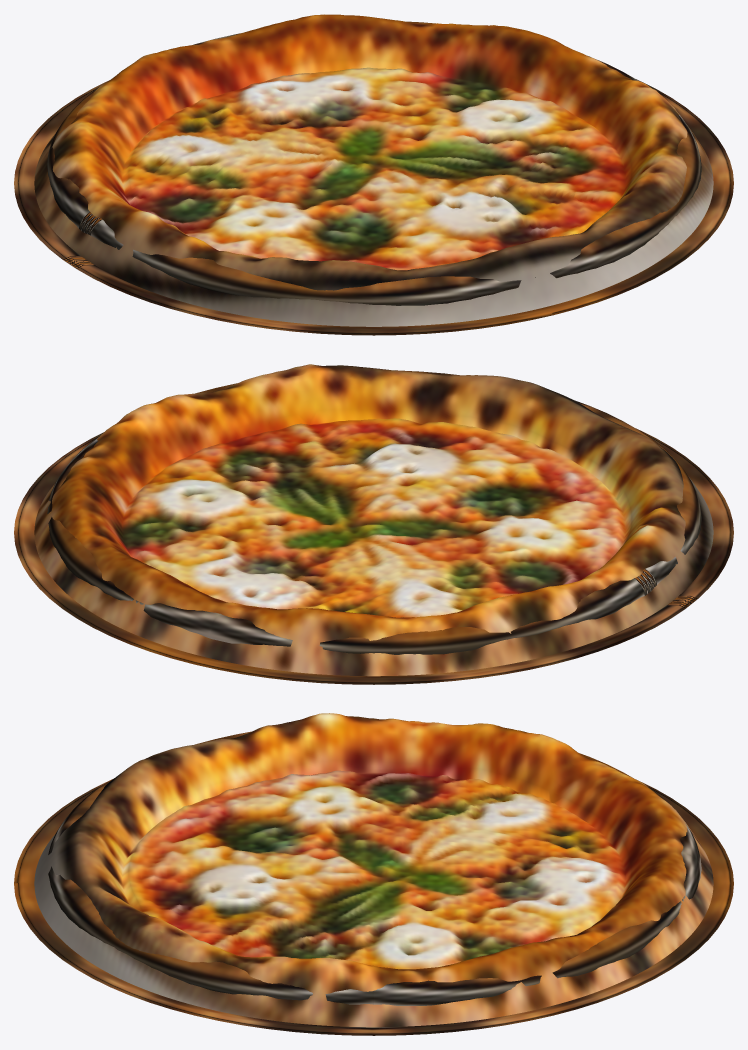
File: margherita-pizza.glb
The picture shows the model from 3 angles, top to bottom: view 1: azimuth 30°, elevation 25°; view 2: azimuth 150°, elevation 25°; view 3: azimuth 270°, elevation 25°; orthographic projection.
Visible parts, largest first — view 1: PhotoSculptedNeapolitanPie, BlisteredCornicionePerimeter, DarkArtisanPizzaPlatter; view 2: PhotoSculptedNeapolitanPie, BlisteredCornicionePerimeter, DarkArtisanPizzaPlatter; view 3: PhotoSculptedNeapolitanPie, BlisteredCornicionePerimeter, DarkArtisanPizzaPlatter.
Part boxes in pixels (<box>): PhotoSculptedNeapolitanPie: <box>34,14,713,326</box>; BlisteredCornicionePerimeter: <box>47,21,701,305</box>; DarkArtisanPizzaPlatter: <box>14,79,733,335</box>; PhotoSculptedNeapolitanPie: <box>34,364,713,676</box>; BlisteredCornicionePerimeter: <box>47,370,701,654</box>; DarkArtisanPizzaPlatter: <box>14,428,733,684</box>; PhotoSculptedNeapolitanPie: <box>34,713,713,1027</box>; BlisteredCornicionePerimeter: <box>48,731,701,1005</box>; DarkArtisanPizzaPlatter: <box>14,779,733,1035</box>.
Size of the model in its own units: 3.52 by 0.3668 by 3.52.
2 materials, 2 textured.
